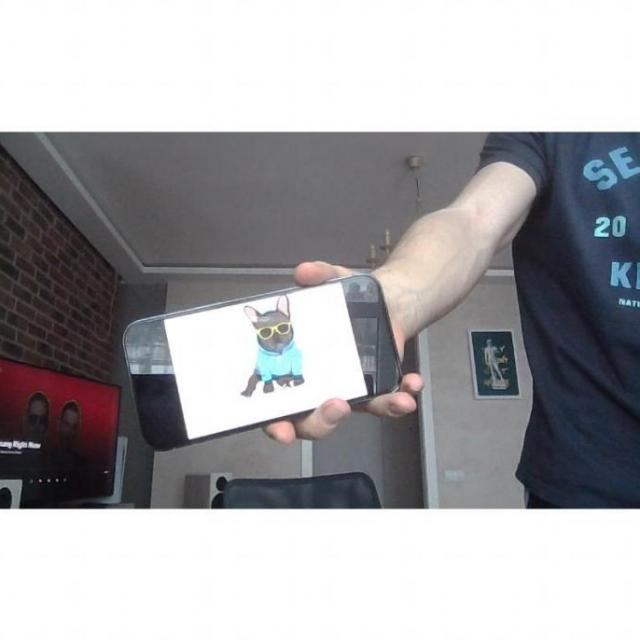device: (121, 273, 410, 450)
